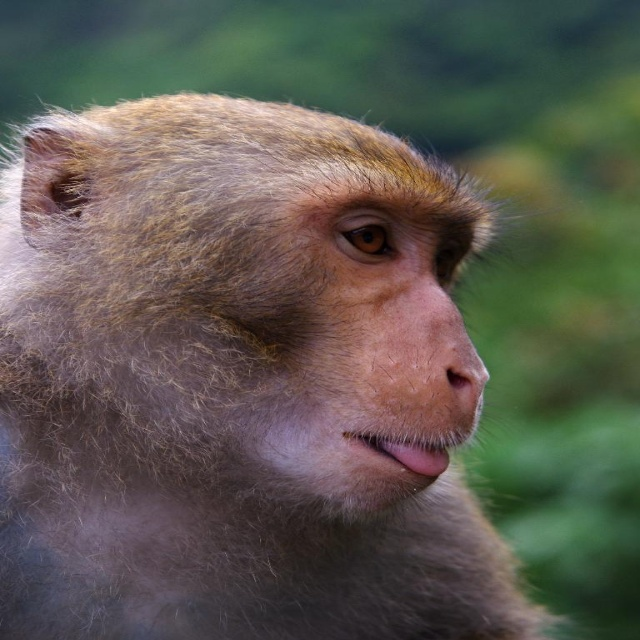Monkey: (1, 74, 570, 640)
